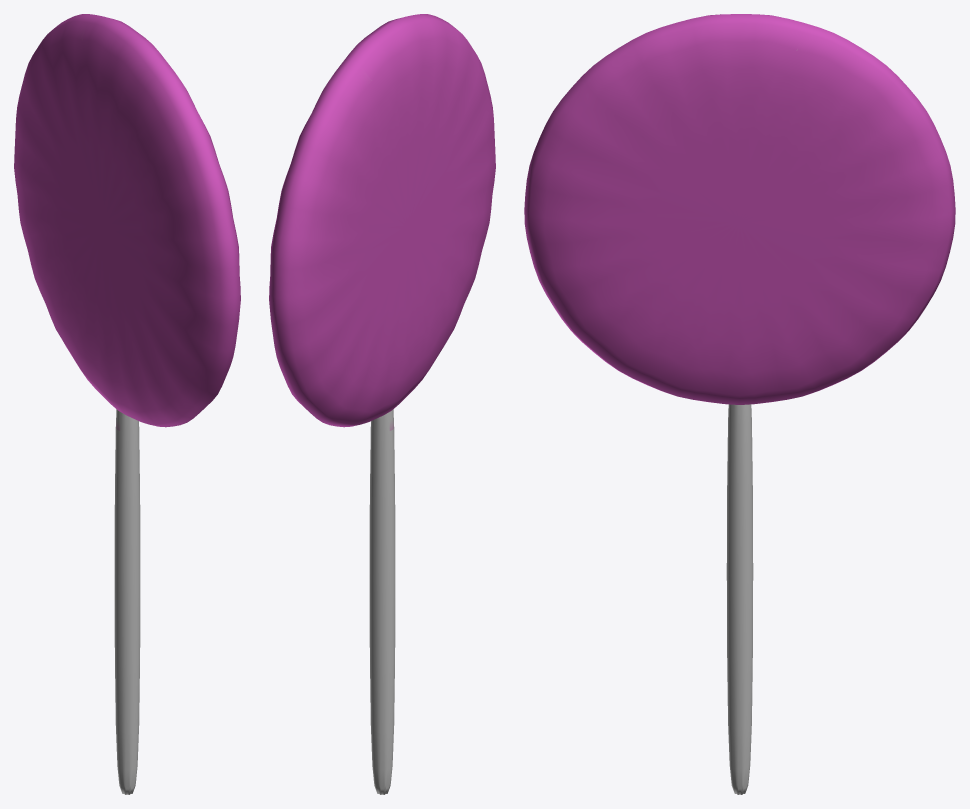
The model's file is Lollypop.fbx.
The picture shows the model from 3 angles, left to right: view 1: azimuth 30°, elevation 25°; view 2: azimuth 150°, elevation 25°; view 3: azimuth 270°, elevation 25°; orthographic projection.
Visible parts, largest first — view 1: Lollypop; view 2: Lollypop; view 3: Lollypop.
Boxes of the visible parts, left/top/right/bottom form: Lollypop: left=14, top=14, right=240, bottom=794; Lollypop: left=269, top=14, right=495, bottom=794; Lollypop: left=524, top=14, right=955, bottom=794.
Size of the model in its own units: 0.2129 by 3.05 by 1.53.
Materials: 1 (1 with a texture image).
